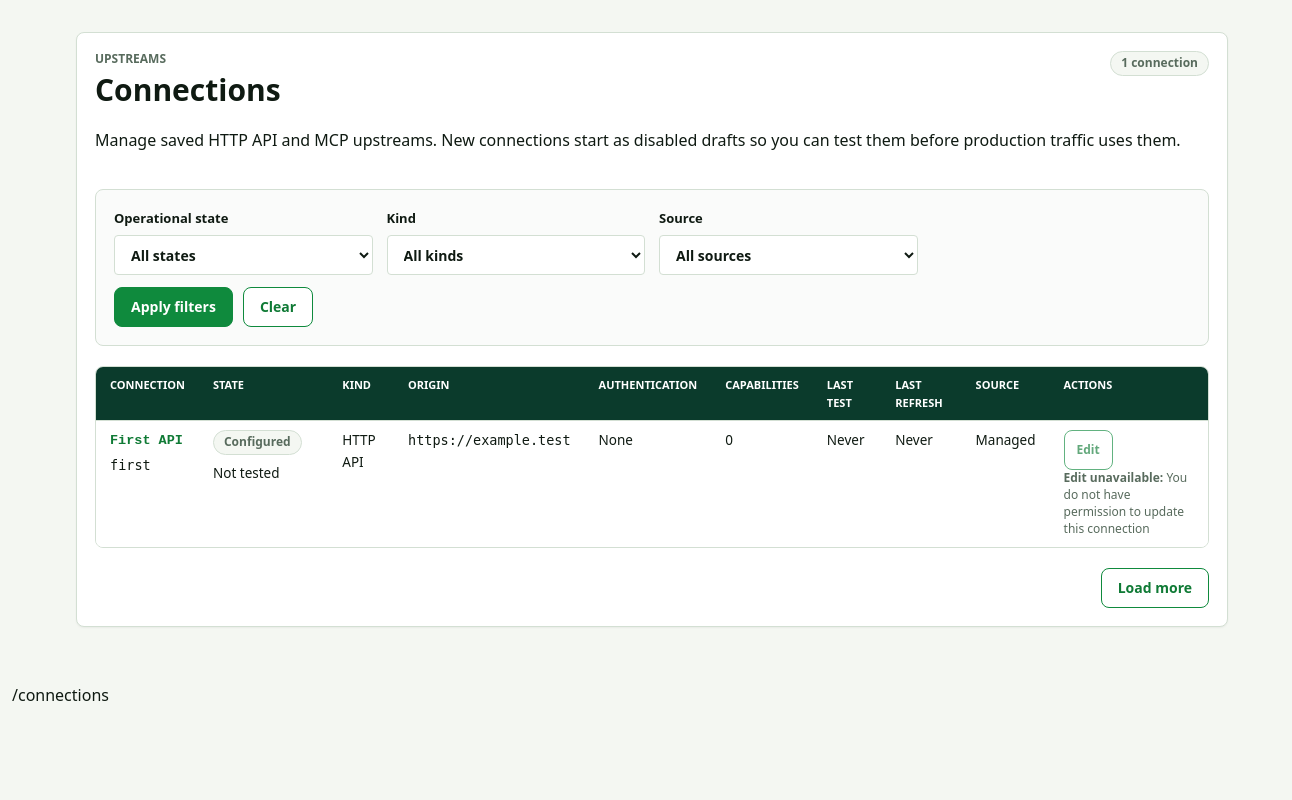
Test: ConnectionsView › appends a cursor page and recovers explicitly from a stale cursor
Expected: the link "First API" is shown, [110,430,185,452]
Click the button "Load more".
click(1155, 588)  # box [1101,568,1209,608]
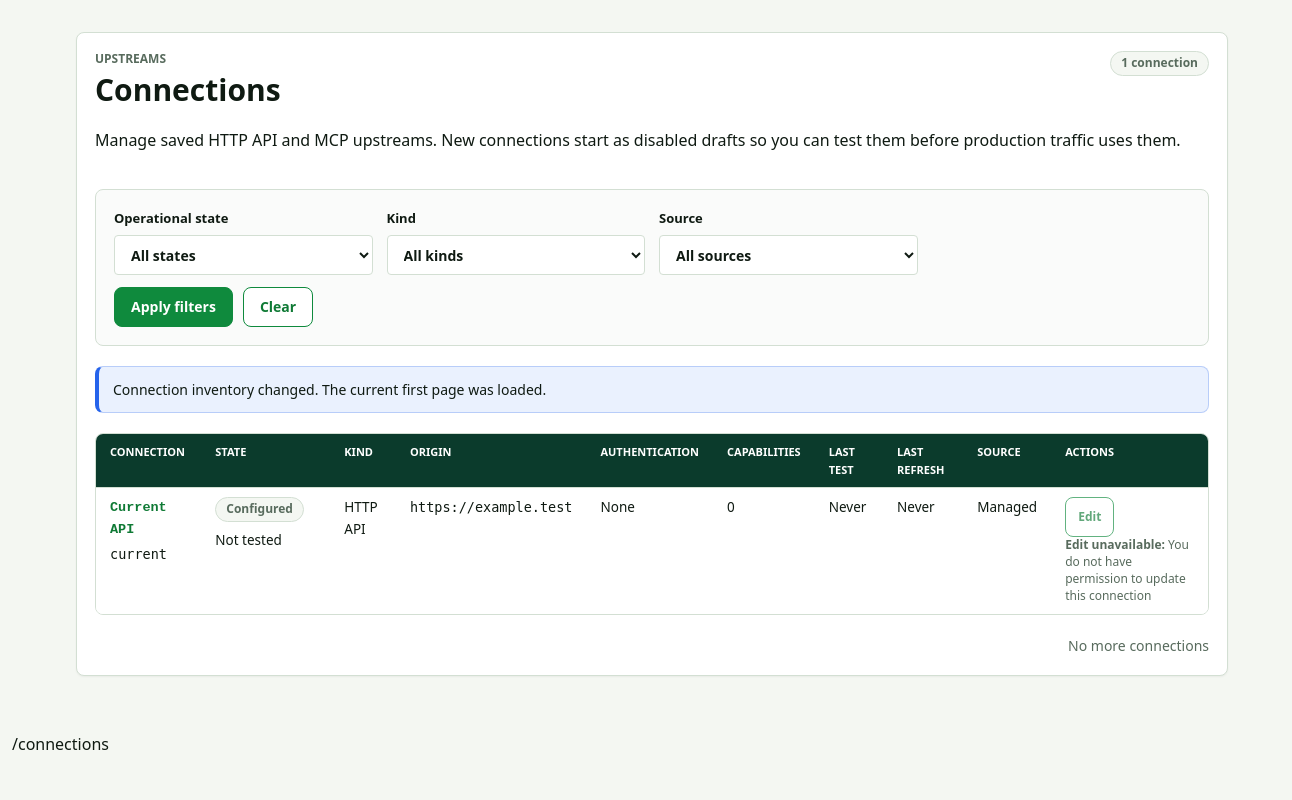
Now the text "Connection inventory changed. The current first page was loaded." is shown, box [95,366,1209,413]
Now the link "Current API" is shown, box [110,500,167,537]
Now the link "First API" is gone
